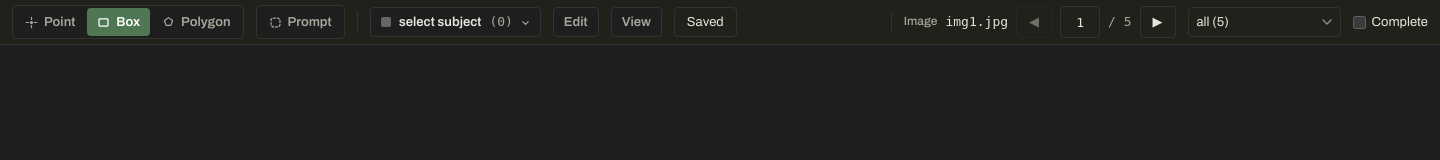
Test case: AnnotateToolbar image filter › names each filter with its count and steps through the kept images only
Select "complete (2)" in the dropdown named "Images" at {"x": 1264, "y": 22}, box [1188, 7, 1340, 37]
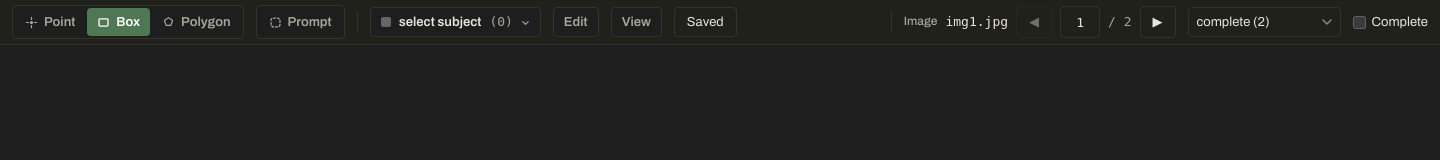
expect the field named "Image position" holds "1": met, box [1060, 6, 1100, 38]
Click the button named "Next image".
click(1158, 22)  # box [1140, 6, 1176, 38]
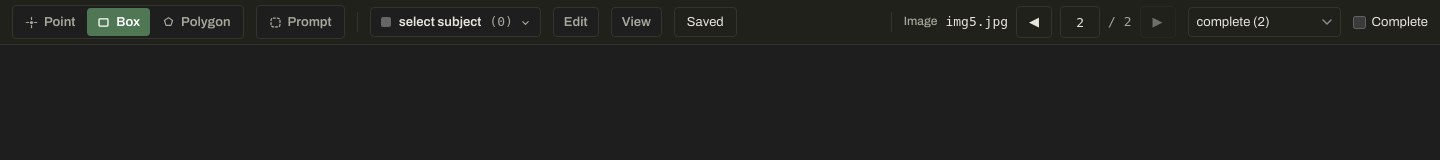
expect the button named "Next image" is disabled: met, box [1140, 6, 1176, 38]
